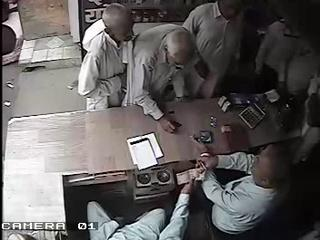Normal: (189, 122, 300, 240), (121, 24, 199, 134), (88, 178, 197, 240), (182, 0, 246, 96)
shoplifting: (77, 3, 135, 111)
